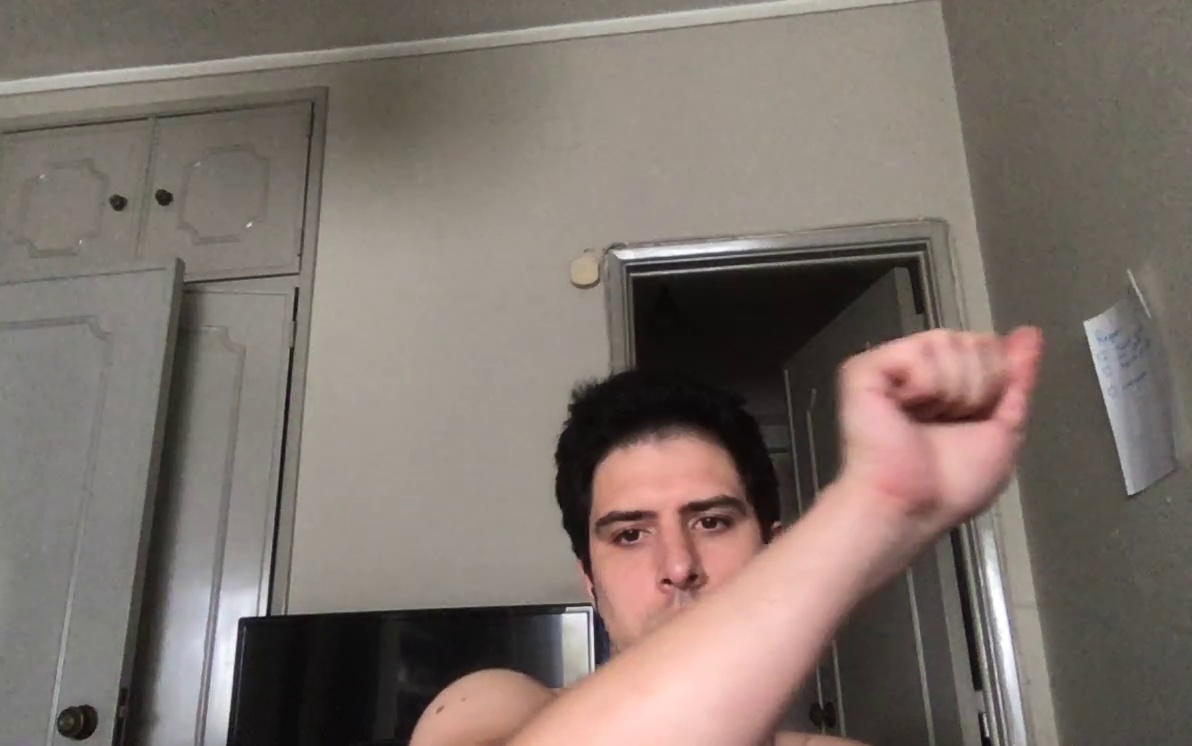a: (829, 322, 1046, 520)
